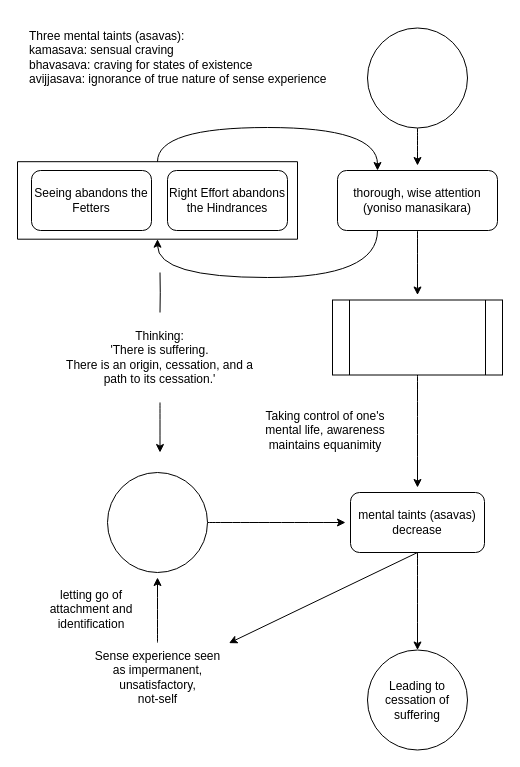
This 520x767 diagram has some shape labels left out. Each missing label, with the centre of its shape:
Existence in a sense realm: point 417,77
Seeing the Four Noble Truths: point 157,522
sense restraint, morality and virtue direct life goals and actions: point 417,337
